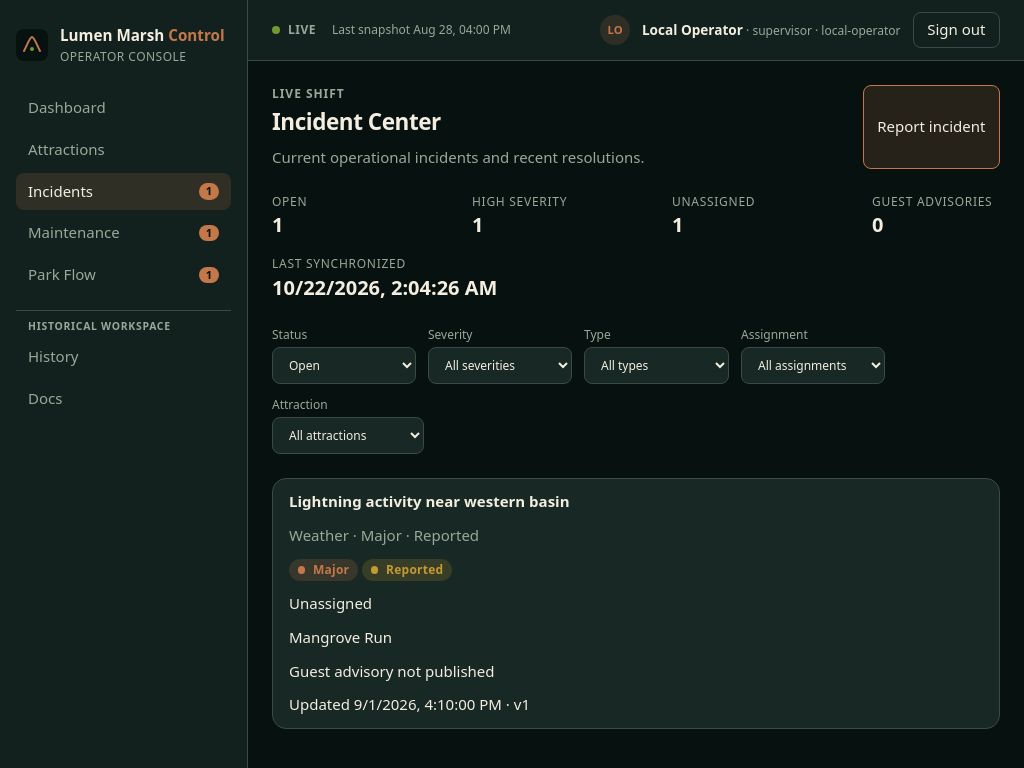
Test: IncidentsPage › stores filters in the URL and applies them
This screenshot has width=1024, height=768.
Check: the link "Lightning activity" is shown, box [289,491,570,714]
Check: the link "Resolved technical fault" is not shown
Select "Resolved" in the dropdown labelled "Status" at (344, 365), box [272,347,416,384]
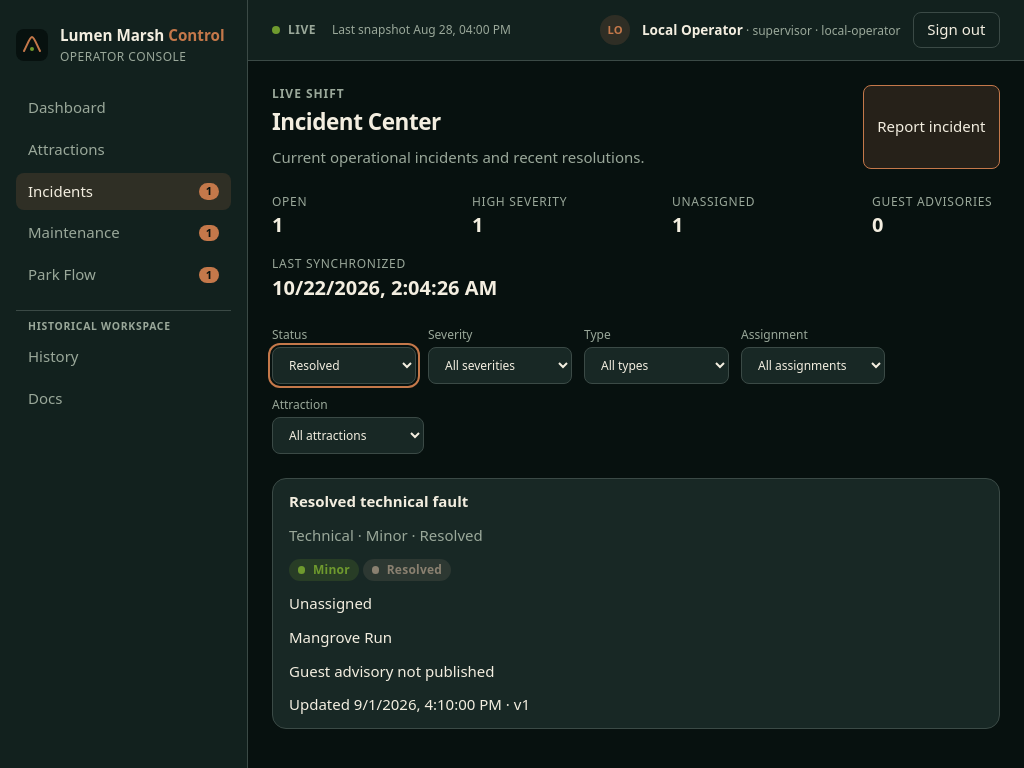
Check: the link "Resolved technical fault" is shown, box [289,491,530,714]
Check: the link "Lightning activity" is gone
Select "Weather" in the dropdown labelled "Type" at (656, 365), box [584,347,729,384]
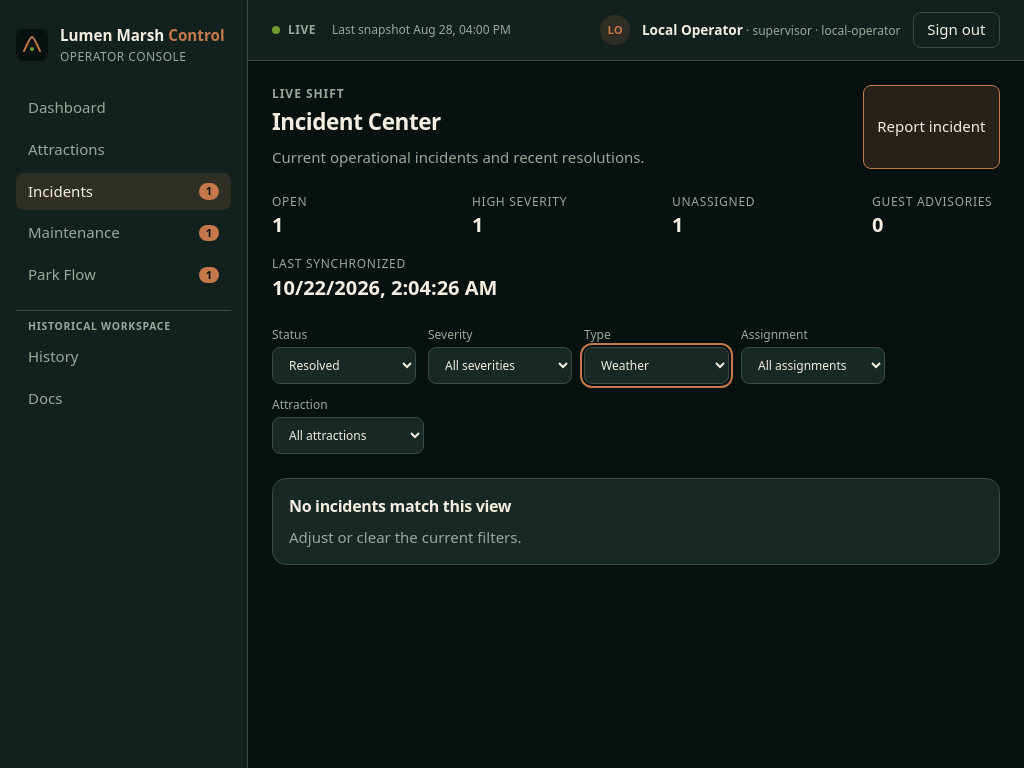
Check: the heading "No incidents match this view" is shown, box [289,495,511,517]
